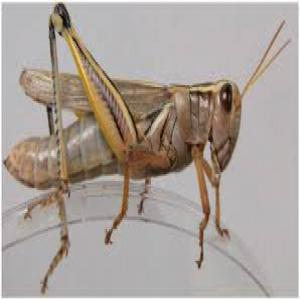locust: (4, 44, 261, 214)
